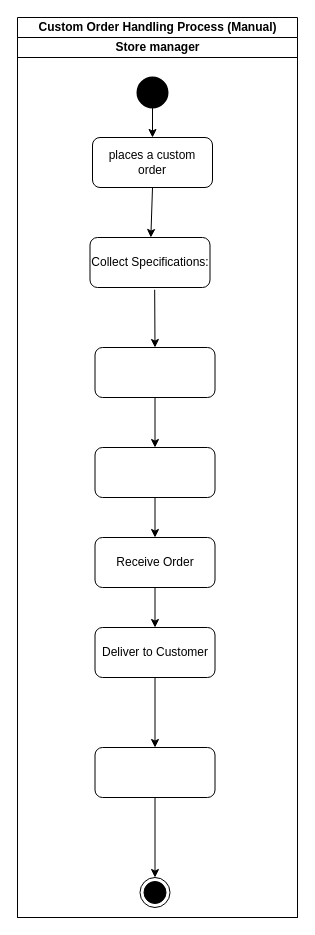
This 315x935 diagram has some shape labels left out. Each missing label, with the centre of its shape:
"Contact Supplier" belongs at (154,372).
"Record Sale" belongs at (154,772).
"Track Order" belongs at (154,472).
